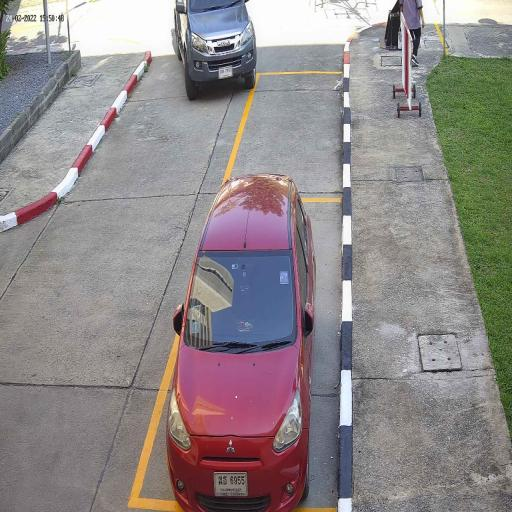car: (165, 172, 316, 512), (173, 0, 257, 102)
